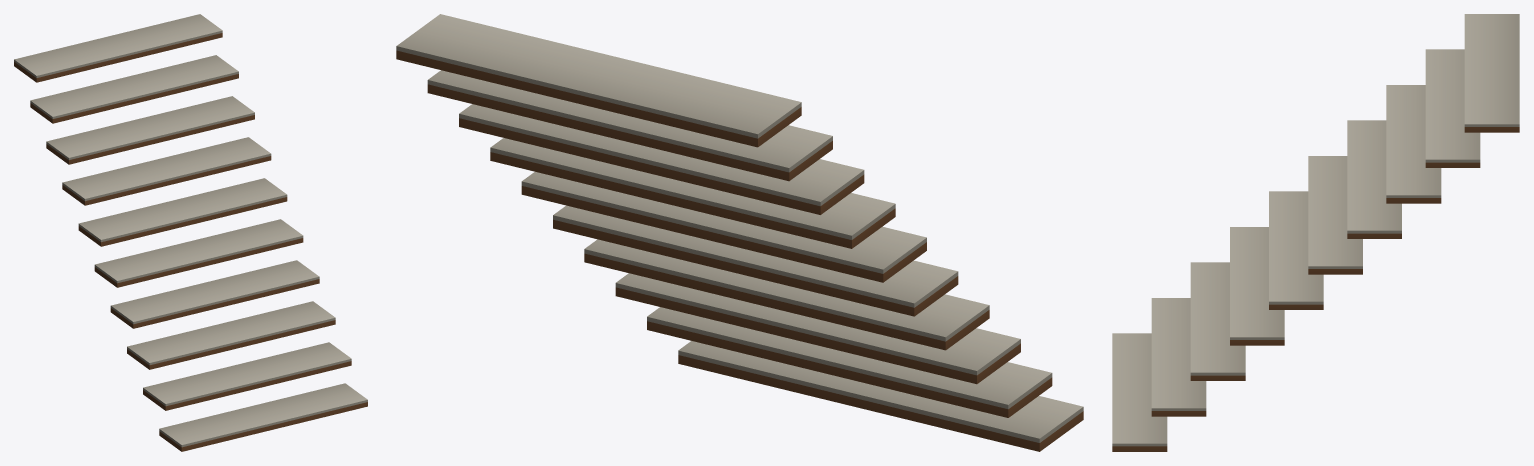
Rendered from TSP_House_Stairs_01B_Side.fbx.
The picture shows the model from 3 angles, left to right: view 1: azimuth 30°, elevation 25°; view 2: azimuth 150°, elevation 25°; view 3: azimuth 270°, elevation 25°; orthographic projection. The views are drawn at different scales.
Visible parts, largest first — view 1: TSP_House_Stairs_01B_Side; view 2: TSP_House_Stairs_01B_Side; view 3: TSP_House_Stairs_01B_Side.
Boxes of the visible parts, x1,y1,x2,y2 form: TSP_House_Stairs_01B_Side: [14, 14, 367, 451]; TSP_House_Stairs_01B_Side: [396, 14, 1083, 451]; TSP_House_Stairs_01B_Side: [1112, 14, 1519, 451].
Bounding box in the file's own units: 2 × 2.77 × 3.12.
